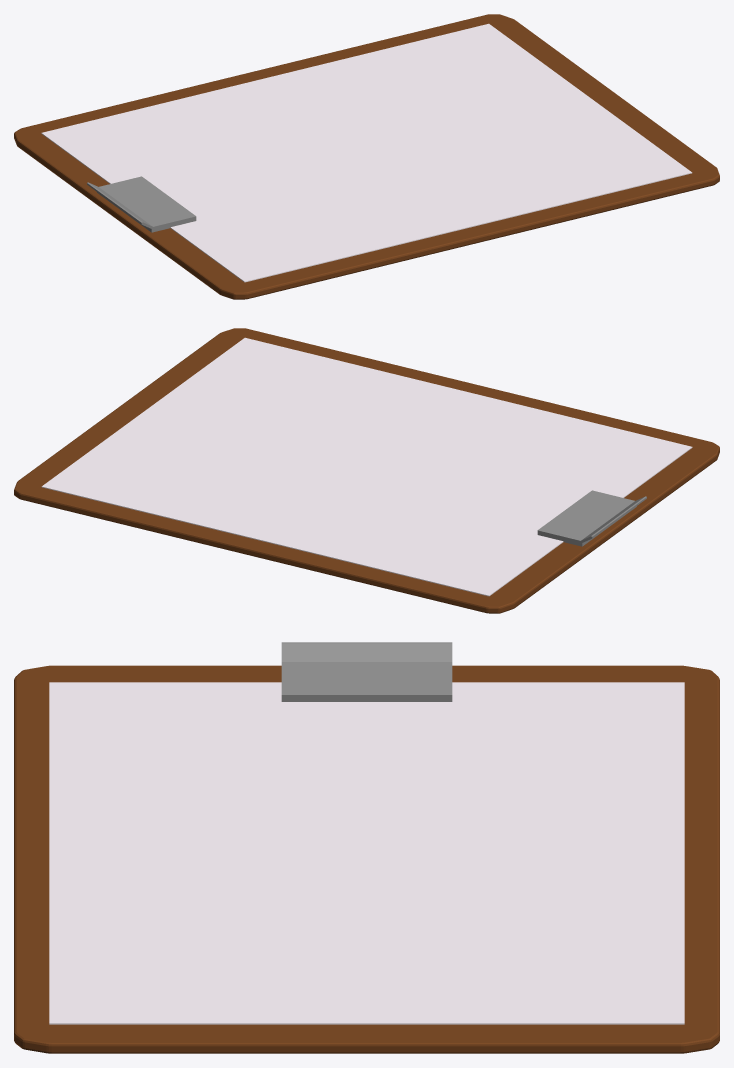
File: menu_clipboard.glb
3 views of the same model, one above another, from view 1: azimuth 30°, elevation 25°; view 2: azimuth 150°, elevation 25°; view 3: azimuth 270°, elevation 25° (orthographic). The views are drawn at different scales.
Visible parts, largest first — view 1: clip_board_paper, clip_board, clip_board_clip; view 2: clip_board_paper, clip_board, clip_board_clip; view 3: clip_board_paper, clip_board, clip_board_clip.
Part boxes in pixels (bbox=[...]): clip_board_paper: bbox=[41, 23, 692, 282]; clip_board: bbox=[14, 14, 719, 299]; clip_board_clip: bbox=[87, 176, 196, 232]; clip_board_paper: bbox=[41, 337, 692, 596]; clip_board: bbox=[14, 328, 719, 613]; clip_board_clip: bbox=[537, 490, 646, 546]; clip_board_paper: bbox=[49, 682, 684, 1024]; clip_board: bbox=[14, 665, 719, 1053]; clip_board_clip: bbox=[281, 642, 452, 701].
Size of the model in its own units: 0.4367 by 0.0161 by 0.3409.
